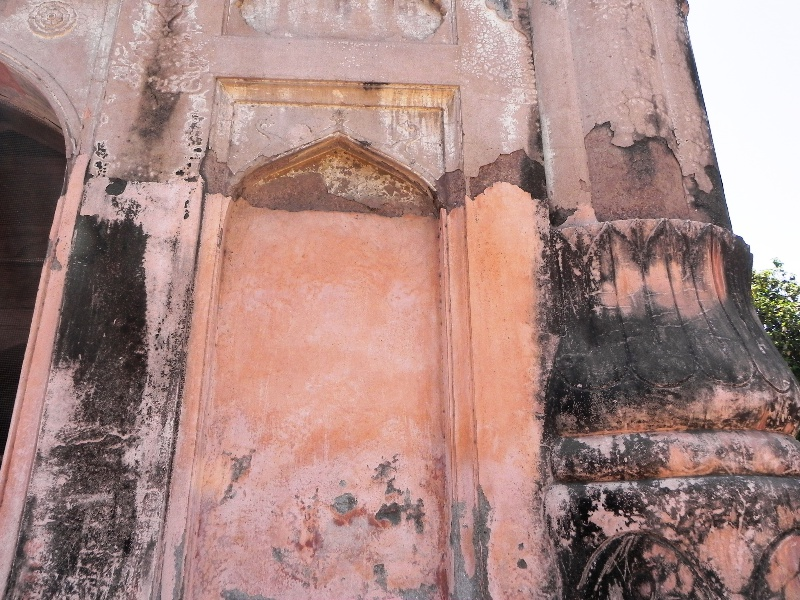Spalling: (582, 113, 703, 233), (196, 151, 392, 218), (432, 143, 544, 208)
